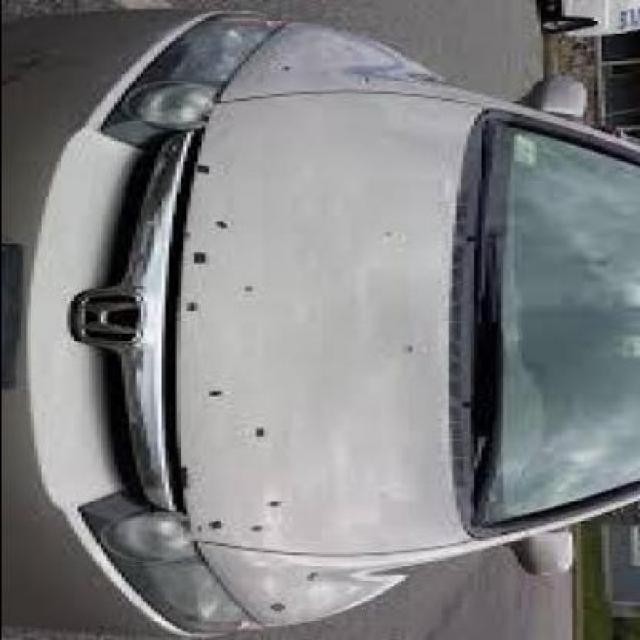damage: (175, 151, 329, 621)
